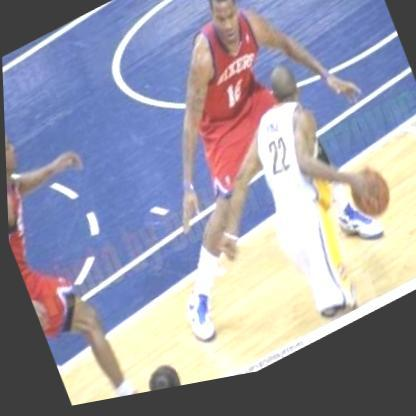basketball: (337, 165, 397, 245)
